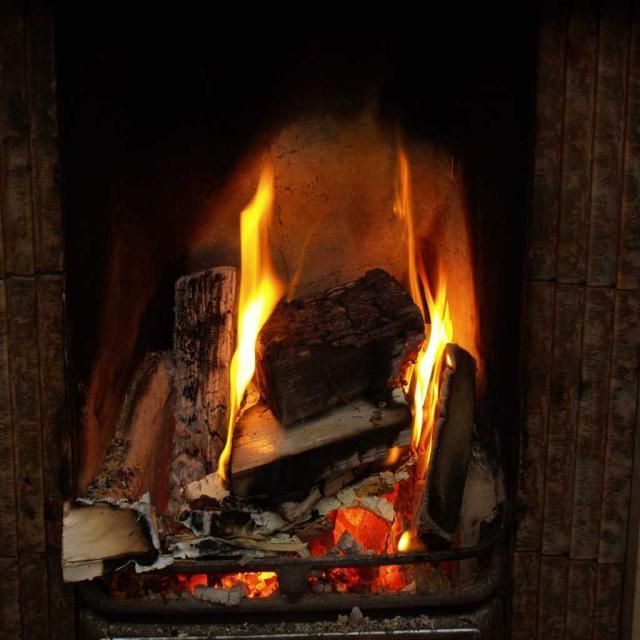Fire: (242, 196, 278, 397), (414, 286, 456, 416)
